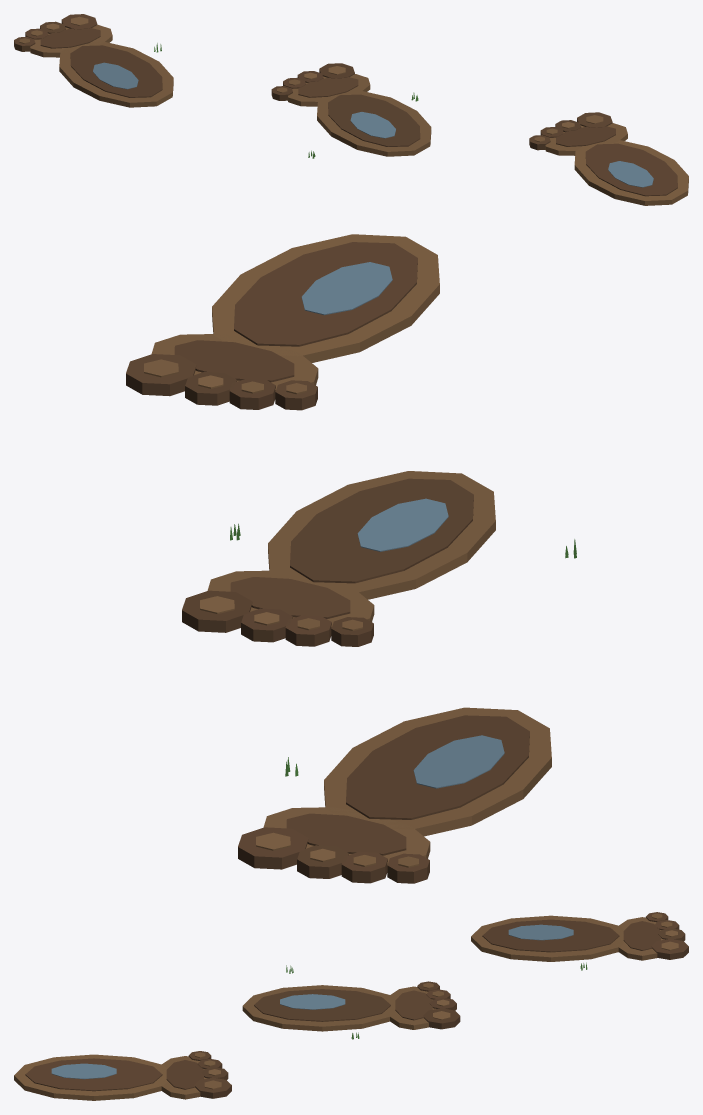
The model's file is Decor_Beanstalk_Footprints.fbx.
3 views of the same model, one above another, from view 1: azimuth 30°, elevation 25°; view 2: azimuth 150°, elevation 25°; view 3: azimuth 270°, elevation 25° (orthographic). The views are drawn at different scales.
Parts seen in each view (by area): view 1: Footprints_Body; view 2: Footprints_Body; view 3: Footprints_Body.
Part boxes in pixels (box(x1,y1,x2,y2)): Footprints_Body: box(14, 14, 688, 205); Footprints_Body: box(126, 234, 576, 883); Footprints_Body: box(14, 912, 688, 1100).
Size of the model in its own units: 26.3 by 0.5 by 41.
